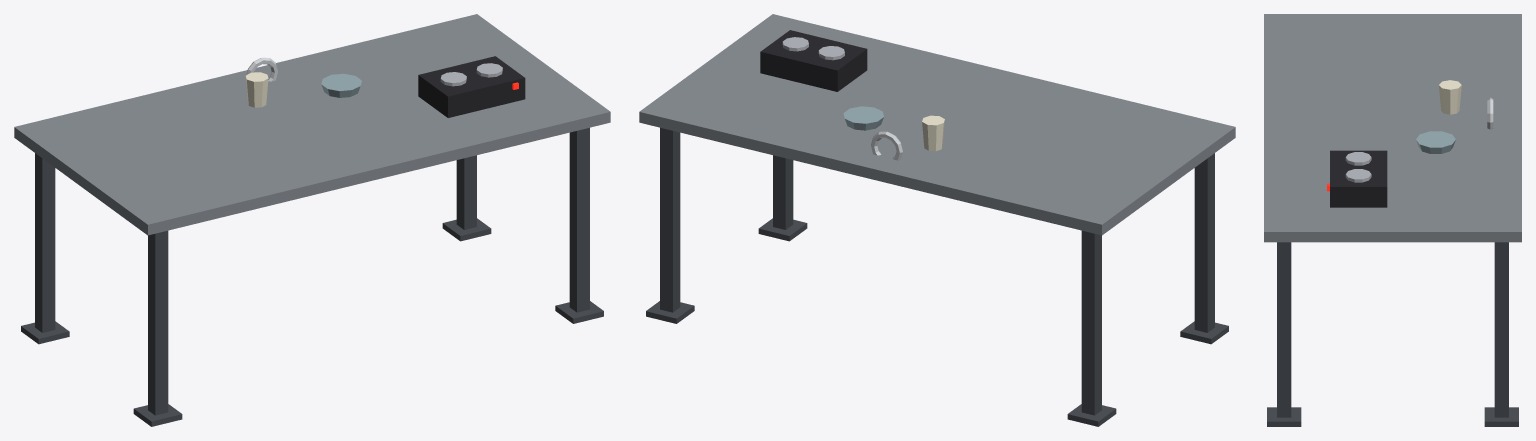
Rendered from interrogation_table.glb.
3 views of the same model, side by side, from view 1: azimuth 30°, elevation 25°; view 2: azimuth 150°, elevation 25°; view 3: azimuth 270°, elevation 25° (orthographic). The views are drawn at different scales.
Parts seen in each view (by area): view 1: top_int_steel, legs_int_steel_dark, recorder_int_recorder, bolts_int_steel_dark, ashtray_int_glass, cup_int_cup; view 2: top_int_steel, legs_int_steel_dark, recorder_int_recorder, bolts_int_steel_dark, ashtray_int_glass, cup_int_cup; view 3: top_int_steel, legs_int_steel_dark, recorder_int_recorder, bolts_int_steel_dark, ashtray_int_glass, cup_int_cup, recorder_int_reel (×2).
Boxes of the visible parts, x1=… form: top_int_steel: x1=14, y1=14, x2=610, y2=235; legs_int_steel_dark: x1=35, y1=127, x2=589, y2=415; recorder_int_recorder: x1=418, y1=56, x2=525, y2=117; bolts_int_steel_dark: x1=21, y1=218, x2=603, y2=426; ashtray_int_glass: x1=321, y1=73, x2=361, y2=97; cup_int_cup: x1=245, y1=72, x2=268, y2=107; top_int_steel: x1=639, y1=14, x2=1235, y2=235; legs_int_steel_dark: x1=660, y1=127, x2=1214, y2=415; recorder_int_recorder: x1=760, y1=30, x2=867, y2=91; bolts_int_steel_dark: x1=646, y1=218, x2=1228, y2=426; ashtray_int_glass: x1=843, y1=106, x2=883, y2=130; cup_int_cup: x1=922, y1=115, x2=944, y2=151; top_int_steel: x1=1264, y1=14, x2=1521, y2=242; legs_int_steel_dark: x1=1277, y1=242, x2=1508, y2=417; recorder_int_recorder: x1=1330, y1=150, x2=1387, y2=207; bolts_int_steel_dark: x1=1267, y1=407, x2=1518, y2=426; ashtray_int_glass: x1=1416, y1=131, x2=1455, y2=153; cup_int_cup: x1=1439, y1=80, x2=1461, y2=114; recorder_int_reel (×2): x1=1345, y1=152, x2=1371, y2=182.
Size of the model in its own units: 1.8 by 0.86 by 0.9.
